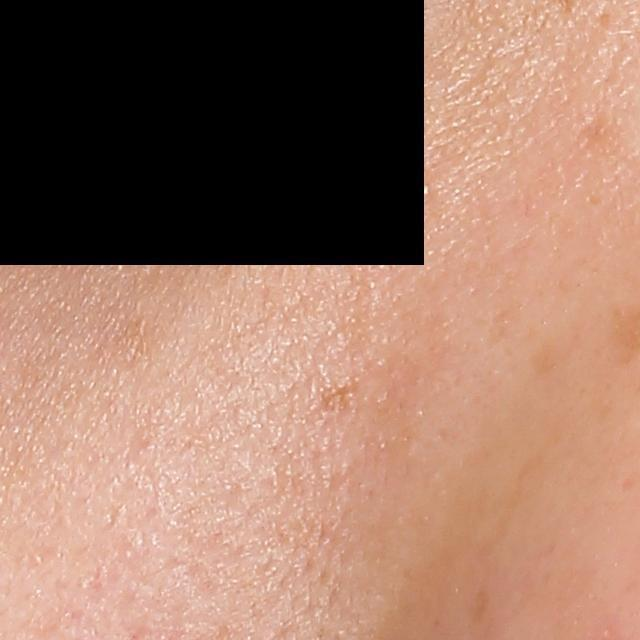melasma: (305, 372, 368, 426), (525, 321, 561, 380)
